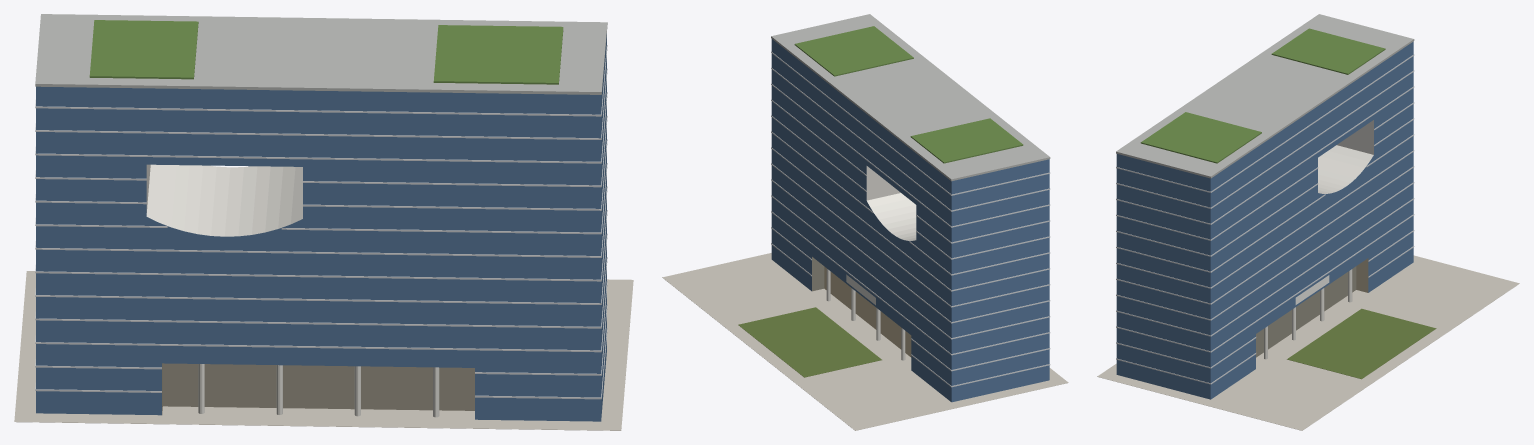
File: taichung_city_council.glb
3 renders of one model, left to right at view 1: azimuth 30°, elevation 25°; view 2: azimuth 150°, elevation 25°; view 3: azimuth 270°, elevation 25°, orthographic. The views are drawn at different scales.
Visible parts, largest first — view 1: taichung_city_council_mesh; view 2: taichung_city_council_mesh; view 3: taichung_city_council_mesh.
Boxes of the visible parts, box(x1,y1,x2,y2) form: taichung_city_council_mesh: box(14, 14, 633, 430); taichung_city_council_mesh: box(662, 14, 1068, 430); taichung_city_council_mesh: box(1097, 14, 1519, 430).
Size of the model in its own units: 135 by 70.15 by 120.
